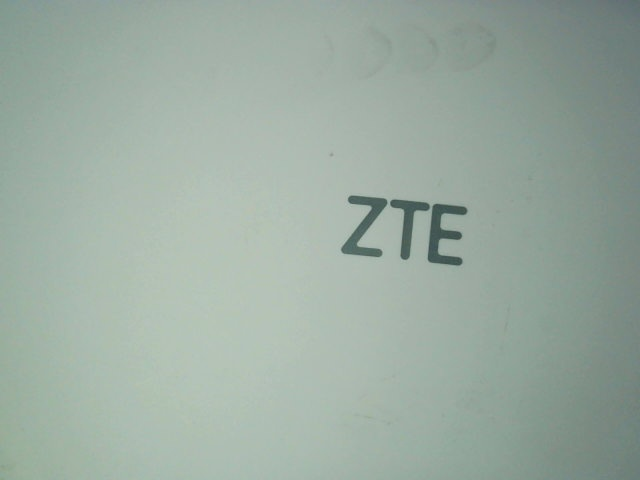AN_ZTE: (340, 191, 473, 269)
